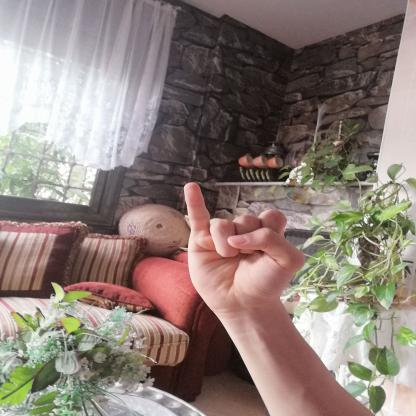MEEM: (167, 170, 316, 321)
